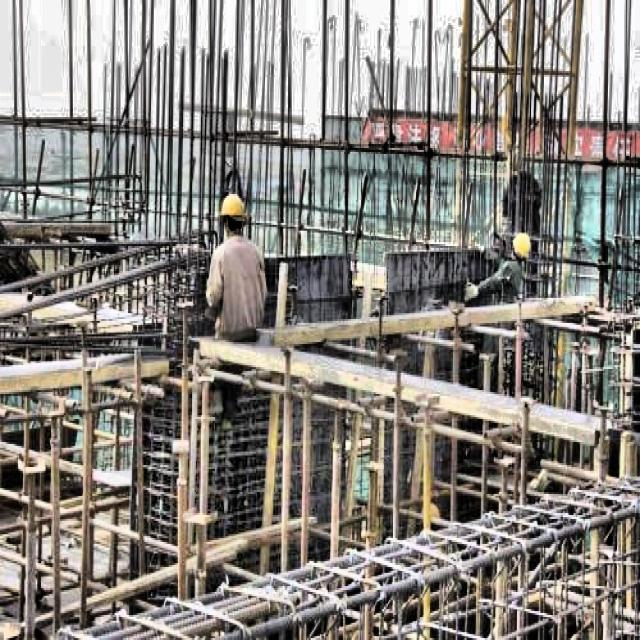helmet: (219, 188, 246, 240), (511, 227, 531, 273)
